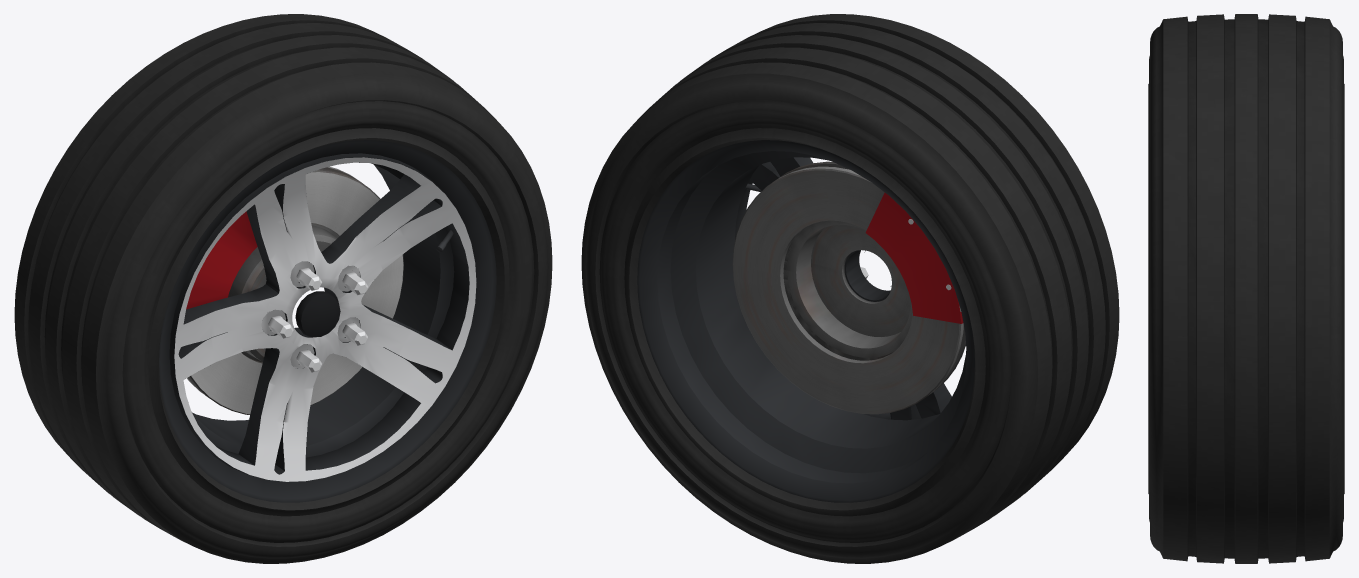
File: wheel-lo-v1.glb
3 renders of one model, left to right at view 1: azimuth 30°, elevation 25°; view 2: azimuth 150°, elevation 25°; view 3: azimuth 270°, elevation 25°, orthographic. The views are drawn at different scales.
Visible parts, largest first — view 1: tyre, rim, disc, caliper, lugs, cap; view 2: tyre, rim, disc, caliper; view 3: tyre.
Part boxes in pixels (x1=…): tyre: x1=14, y1=14, x2=552, y2=563; rim: x1=159, y1=140, x2=496, y2=502; disc: x1=187, y1=166, x2=403, y2=414; caliper: x1=186, y1=211, x2=257, y2=309; lugs: x1=268, y1=268, x2=367, y2=372; cap: x1=295, y1=291, x2=340, y2=337; tyre: x1=581, y1=14, x2=1119, y2=563; rim: x1=637, y1=140, x2=974, y2=502; disc: x1=732, y1=161, x2=965, y2=414; caliper: x1=865, y1=192, x2=963, y2=323; tyre: x1=1148, y1=14, x2=1344, y2=563.
Size of the model in its own units: 0.6344 by 0.6344 by 0.2268.
Materials: 10 (4 with a texture image).
